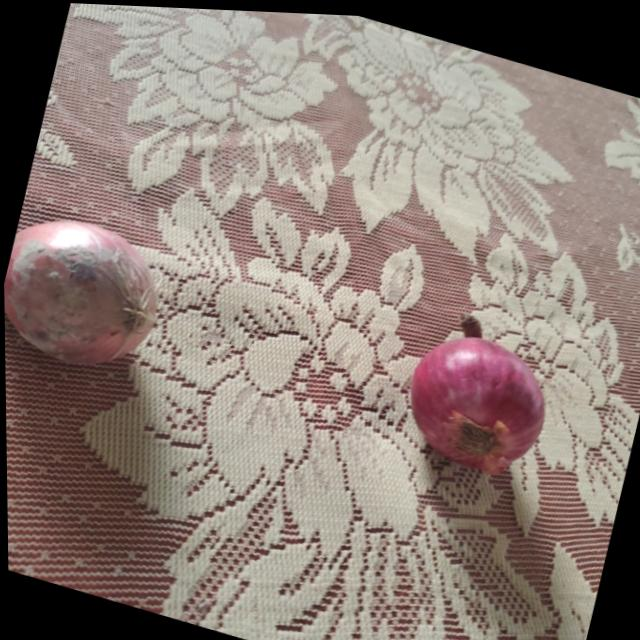onion: (2, 192, 165, 383), (394, 318, 556, 480)
